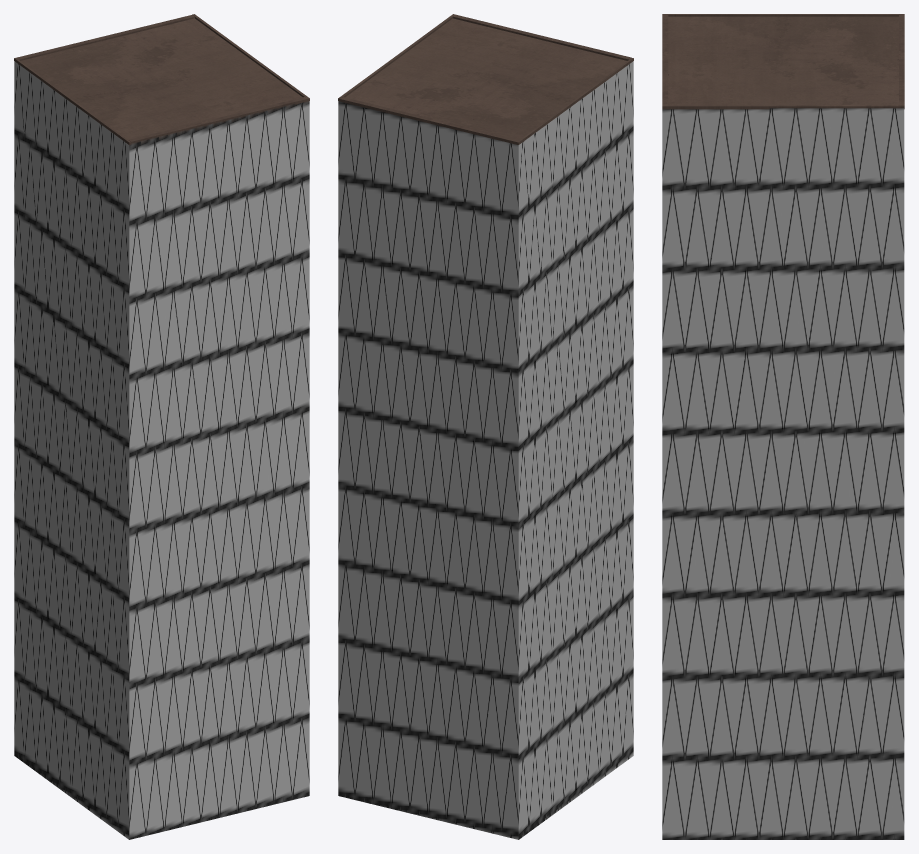
The model's file is build15.fbx.
The picture shows the model from 3 angles, left to right: view 1: azimuth 30°, elevation 25°; view 2: azimuth 150°, elevation 25°; view 3: azimuth 270°, elevation 25°; orthographic projection. The views are drawn at different scales.
Visible parts, largest first — view 1: Construction_Building; view 2: Construction_Building; view 3: Construction_Building.
Boxes of the visible parts, x1,y1,x2,y2 form: Construction_Building: [14, 14, 309, 839]; Construction_Building: [338, 14, 633, 839]; Construction_Building: [662, 14, 904, 839].
Bounding box in the file's own units: 269 × 993 × 297.
1 material, 1 textured.
